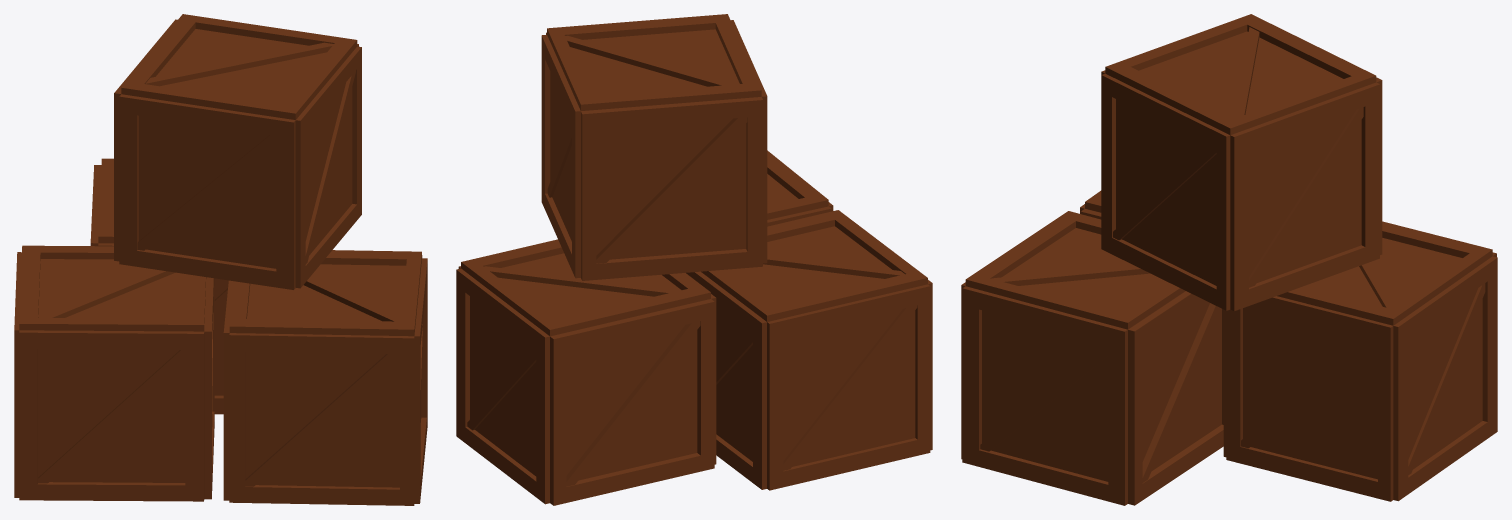
The model's file is Boxes.fbx.
3 renders of one model, left to right at view 1: azimuth 30°, elevation 25°; view 2: azimuth 150°, elevation 25°; view 3: azimuth 270°, elevation 25°, orthographic. The views are drawn at different scales.
Parts seen in each view (by area): view 1: Boxes; view 2: Boxes; view 3: Boxes.
Part boxes in pixels (left/top/right/bottom): Boxes: left=14, top=14, right=427, bottom=505; Boxes: left=456, top=14, right=932, bottom=505; Boxes: left=961, top=14, right=1497, bottom=505.
Size of the model in its own units: 1249 by 1099 by 1455.
